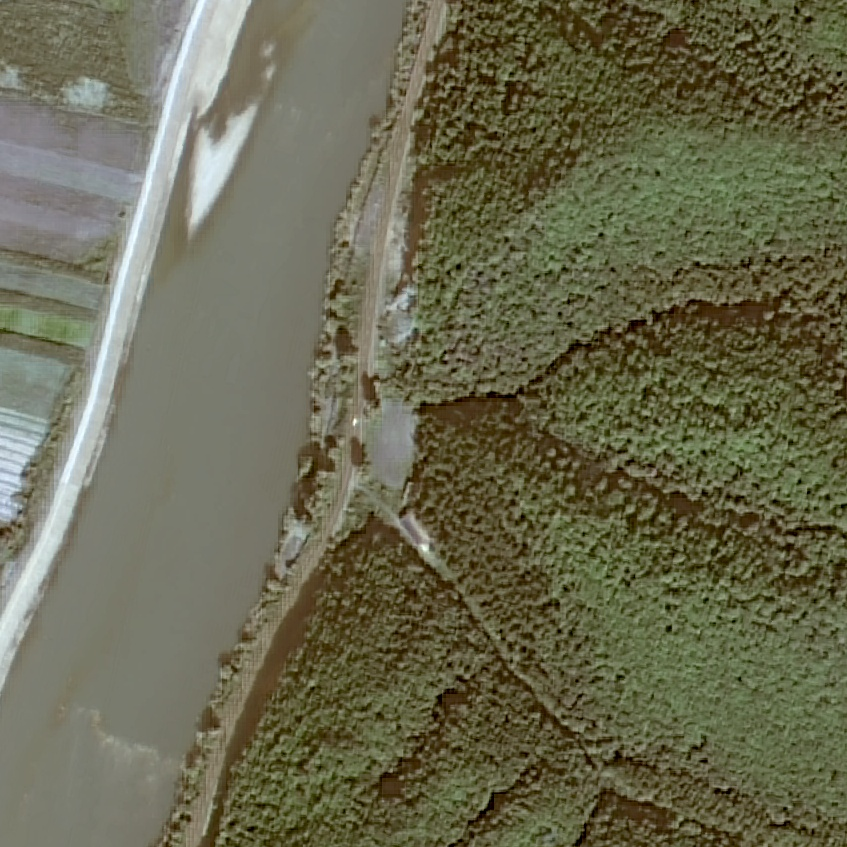slope: (378, 155, 439, 345), (58, 72, 112, 113)
